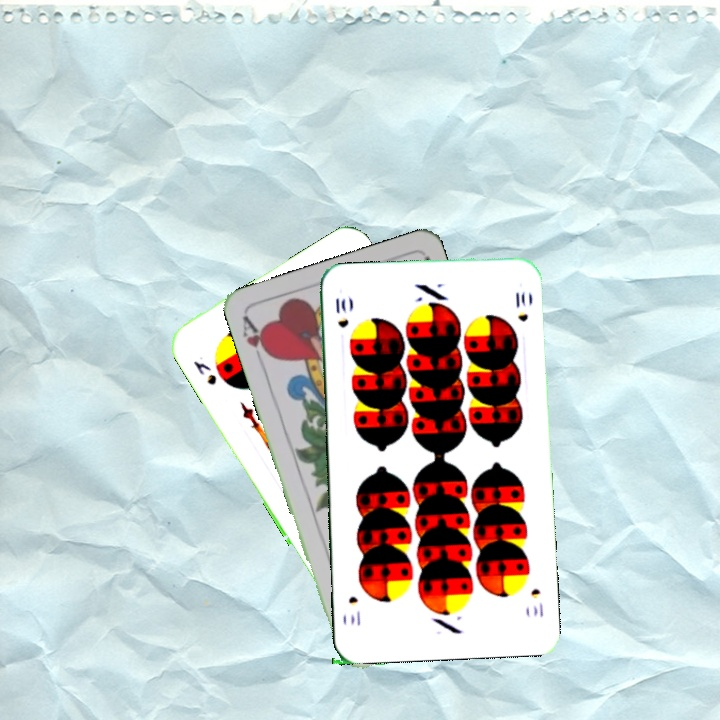HA: (238, 312, 275, 370)
S10: (526, 585, 546, 620), (332, 294, 351, 330)
SK: (189, 352, 220, 388)
